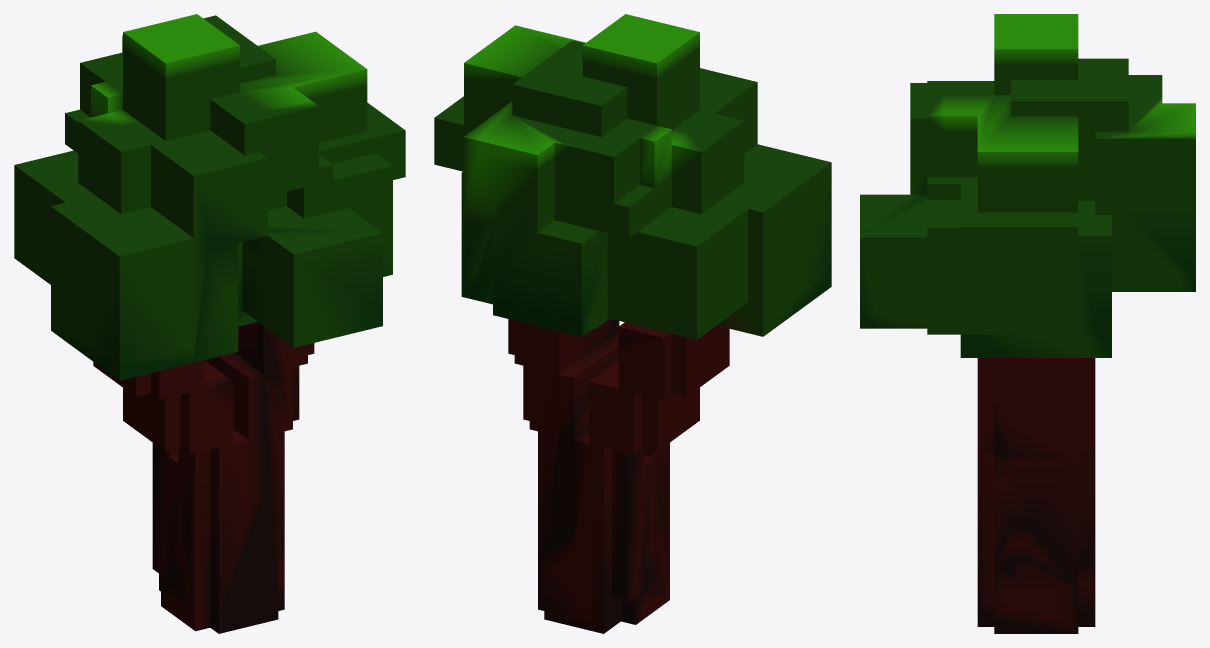
The model's file is Tree_25.fbx.
3 renders of one model, left to right at view 1: azimuth 30°, elevation 25°; view 2: azimuth 150°, elevation 25°; view 3: azimuth 270°, elevation 25°, orthographic. The views are drawn at different scales.
Visible parts, largest first — view 1: Tree_25; view 2: Tree_25; view 3: Tree_25.
Part boxes in pixels (<box>): Tree_25: <box>14,14,405,633</box>; Tree_25: <box>434,14,831,633</box>; Tree_25: <box>860,14,1195,633</box>.
Size of the model in its own units: 368 by 649 by 351.
